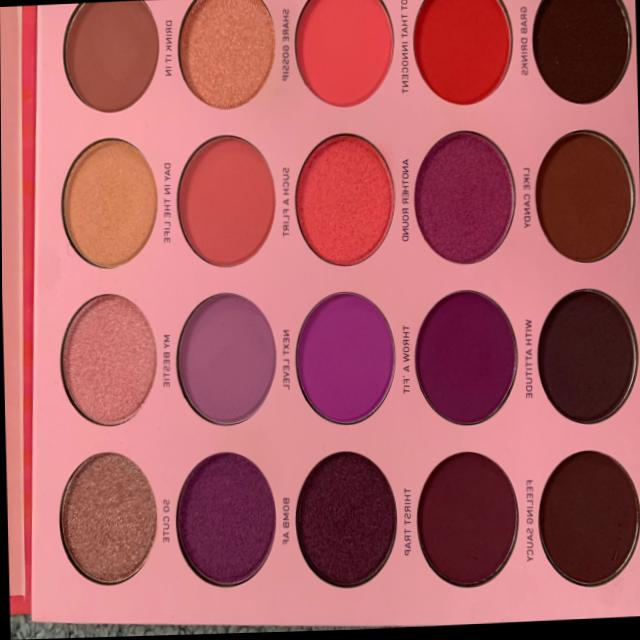eye shade: (385, 0, 532, 629), (44, 0, 180, 629), (278, 0, 402, 625), (517, 0, 640, 624), (167, 0, 286, 633)
